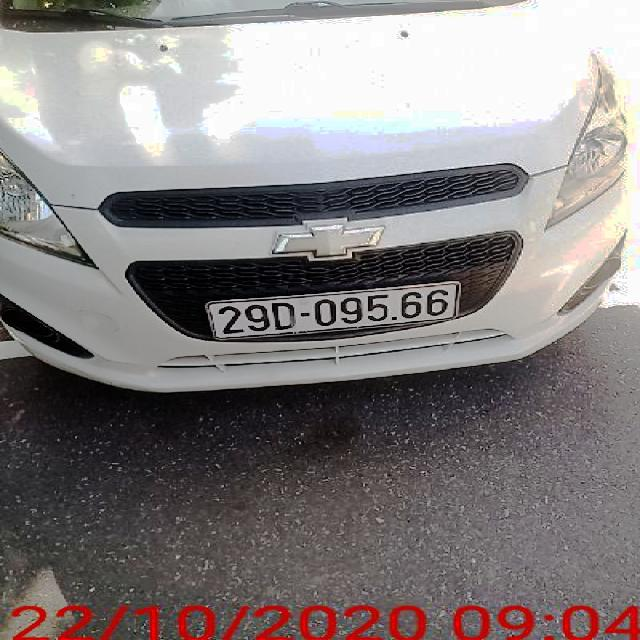license_plate: (216, 284, 456, 342)
